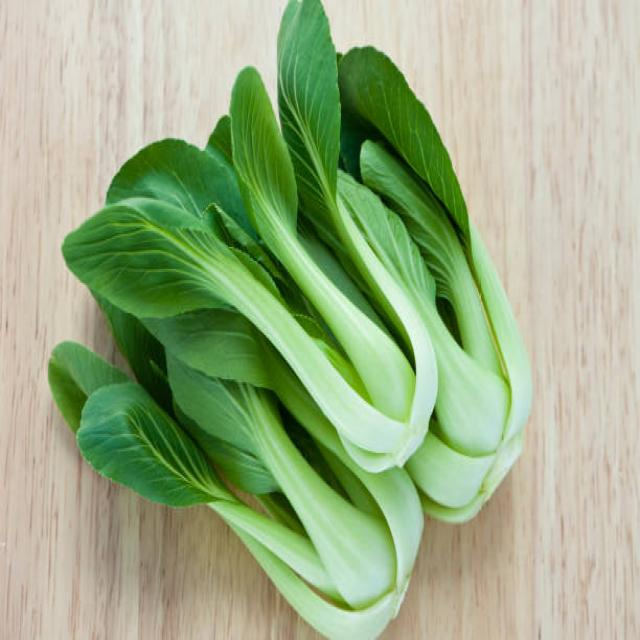Bok Choy: (233, 122, 411, 473), (177, 453, 400, 640), (442, 166, 550, 529)
